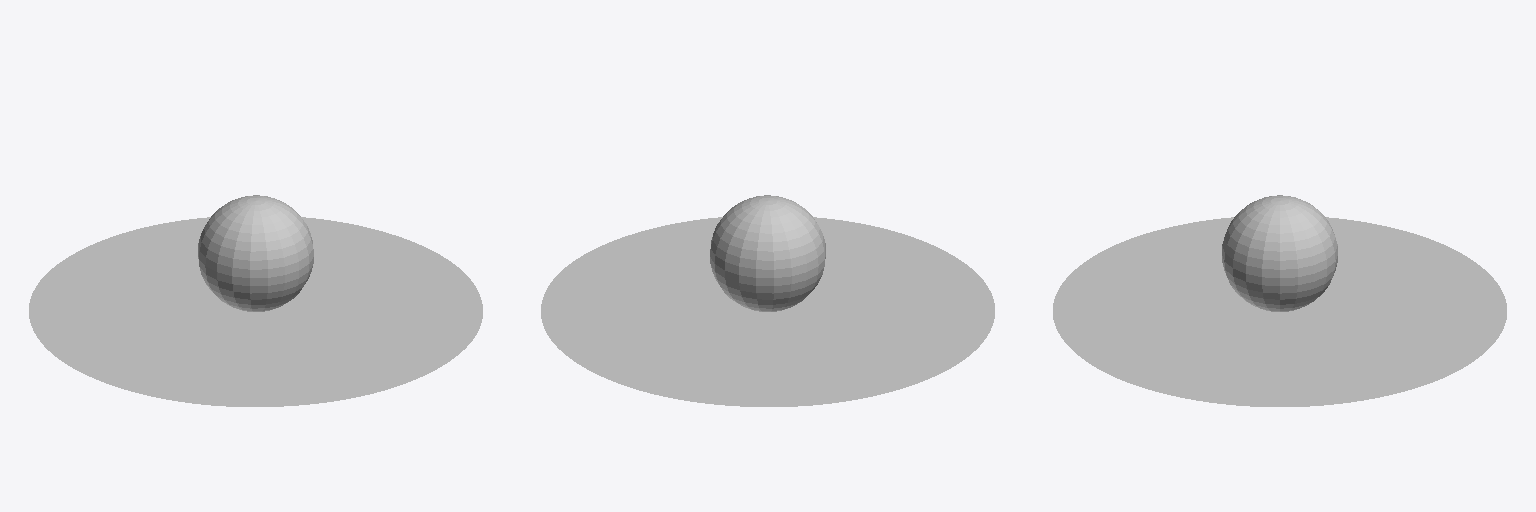
Rendered from sphere-on-disk.obj.
The picture shows the model from 3 angles: view 1: azimuth 30°, elevation 25°; view 2: azimuth 150°, elevation 25°; view 3: azimuth 270°, elevation 25°; orthographic projection.
Parts seen in each view (by area): view 1: nurbsToPoly1, pSphere1; view 2: nurbsToPoly1, pSphere1; view 3: nurbsToPoly1, pSphere1.
Boxes of the visible parts, x1,y1,x2,y2 form: nurbsToPoly1: [29, 217, 482, 406]; pSphere1: [198, 195, 313, 311]; nurbsToPoly1: [541, 217, 994, 406]; pSphere1: [710, 195, 825, 311]; nurbsToPoly1: [1053, 217, 1506, 406]; pSphere1: [1222, 195, 1337, 311].
Size of the model in its own units: 20 by 5.36 by 20.